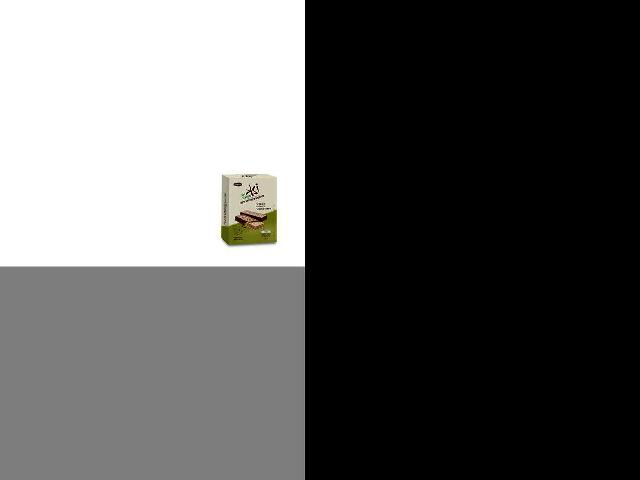chocolate: (217, 172, 283, 248)
